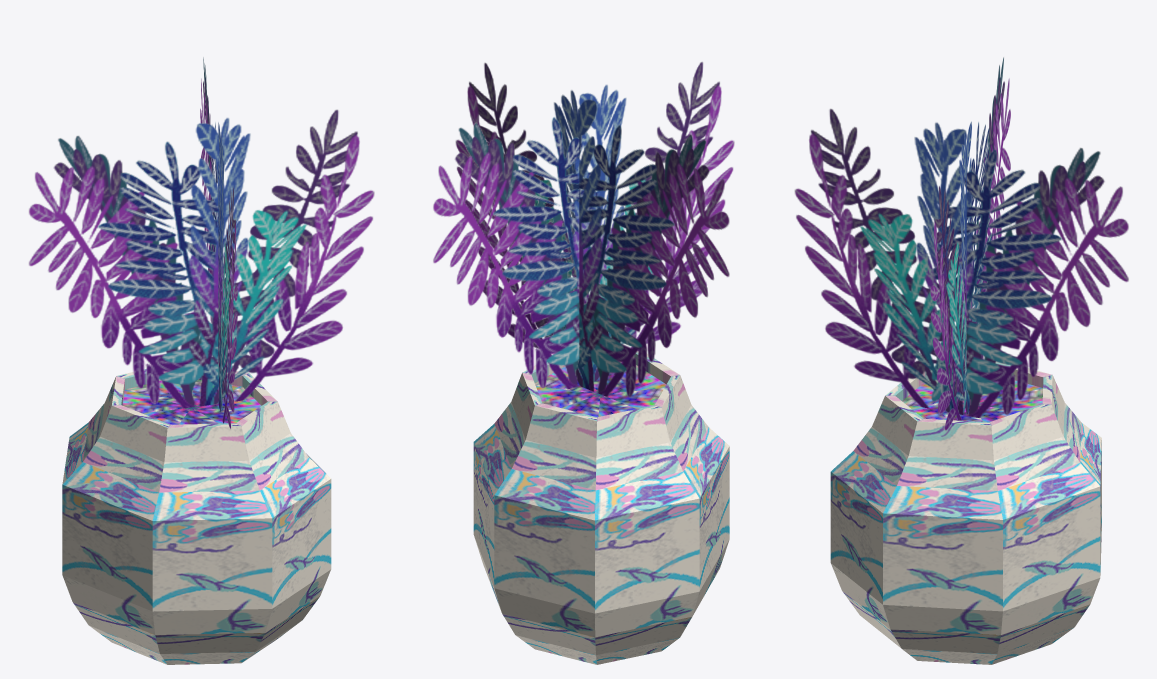
The model's file is Pot_Retro_02.glb.
The picture shows the model from 3 angles, left to right: view 1: azimuth 30°, elevation 25°; view 2: azimuth 150°, elevation 25°; view 3: azimuth 270°, elevation 25°; orthographic projection. The views are drawn at different scales.
Visible parts, largest first — view 1: Pot_Retro_02; view 2: Pot_Retro_02; view 3: Pot_Retro_02.
Part boxes in pixels (x1,y1,x2,y2): Pot_Retro_02: (28, 57, 374, 664); Pot_Retro_02: (433, 61, 734, 664); Pot_Retro_02: (794, 57, 1128, 664).
Size of the model in its own units: 1.59 by 2.43 by 1.48.
Materials: 3 (3 with a texture image).
